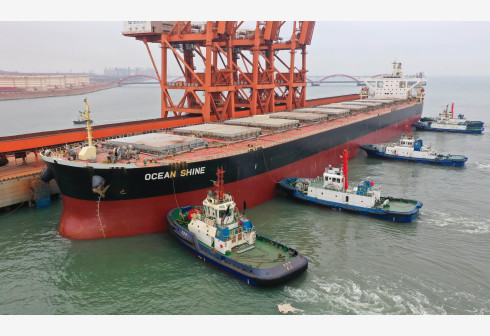Cargoship: (41, 45, 424, 232)
otherboat: (169, 166, 316, 286), (275, 159, 426, 226), (359, 128, 471, 166), (409, 100, 488, 131)
